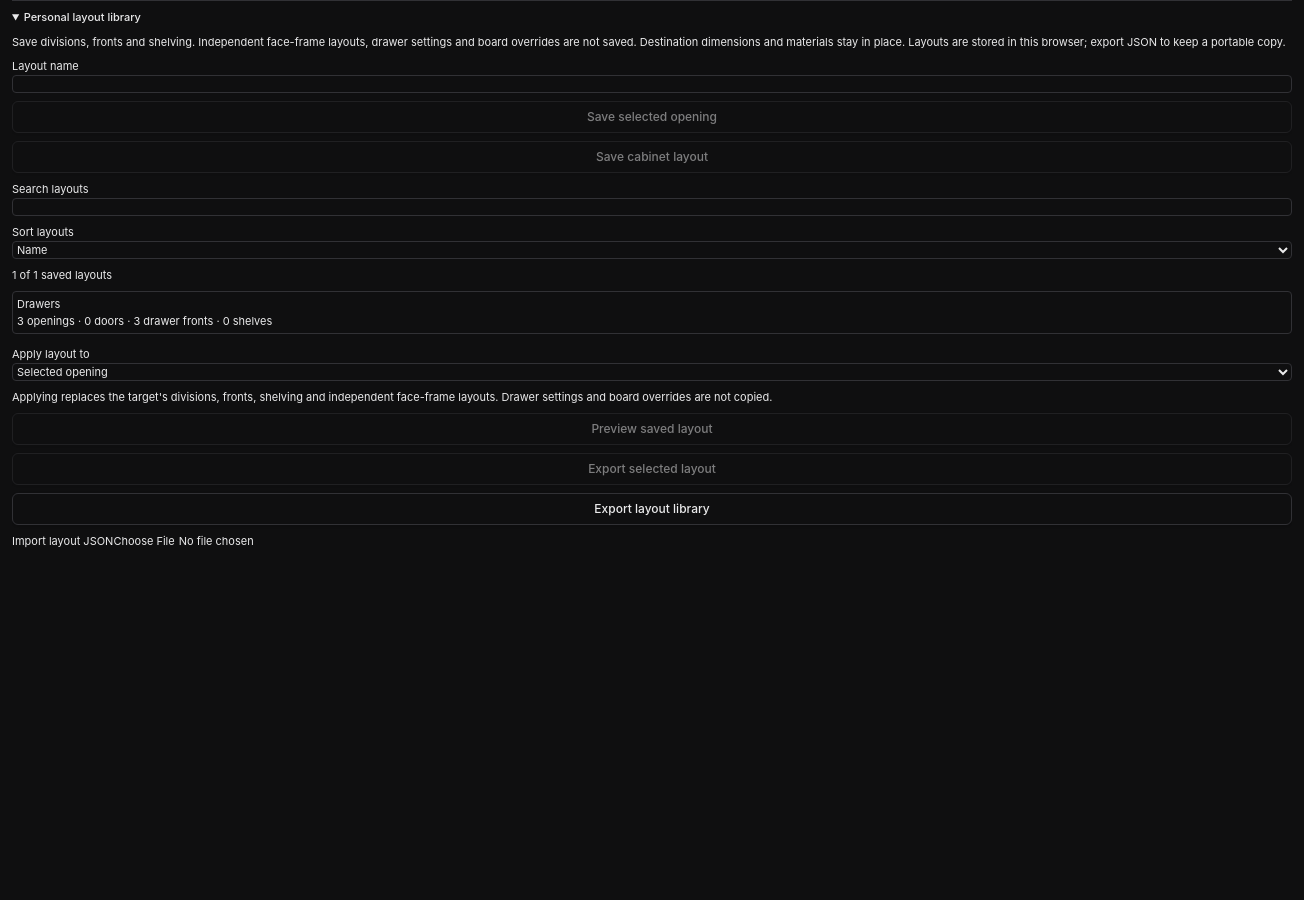
Test: blocks layouts with drawer boxes that cannot fit and leaves the current design unchanged
Click the button "Drawers 3 openings · 0 doors · 3 drawer fronts · 0 shelves".
click(39, 304)  # box [12,291,1292,334]
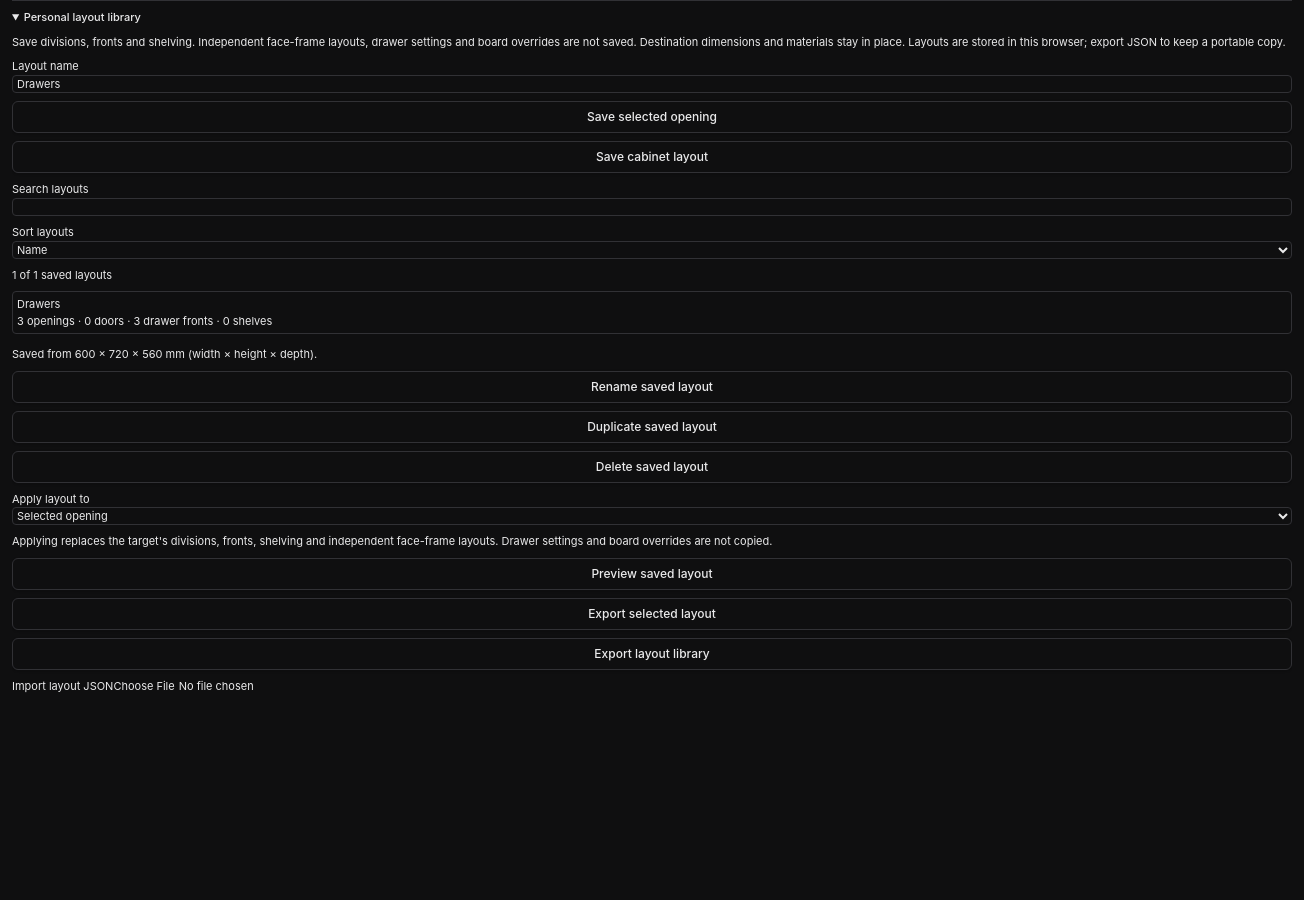
Click the button "Preview saved layout".
click(652, 574)  # box [12,558,1292,590]
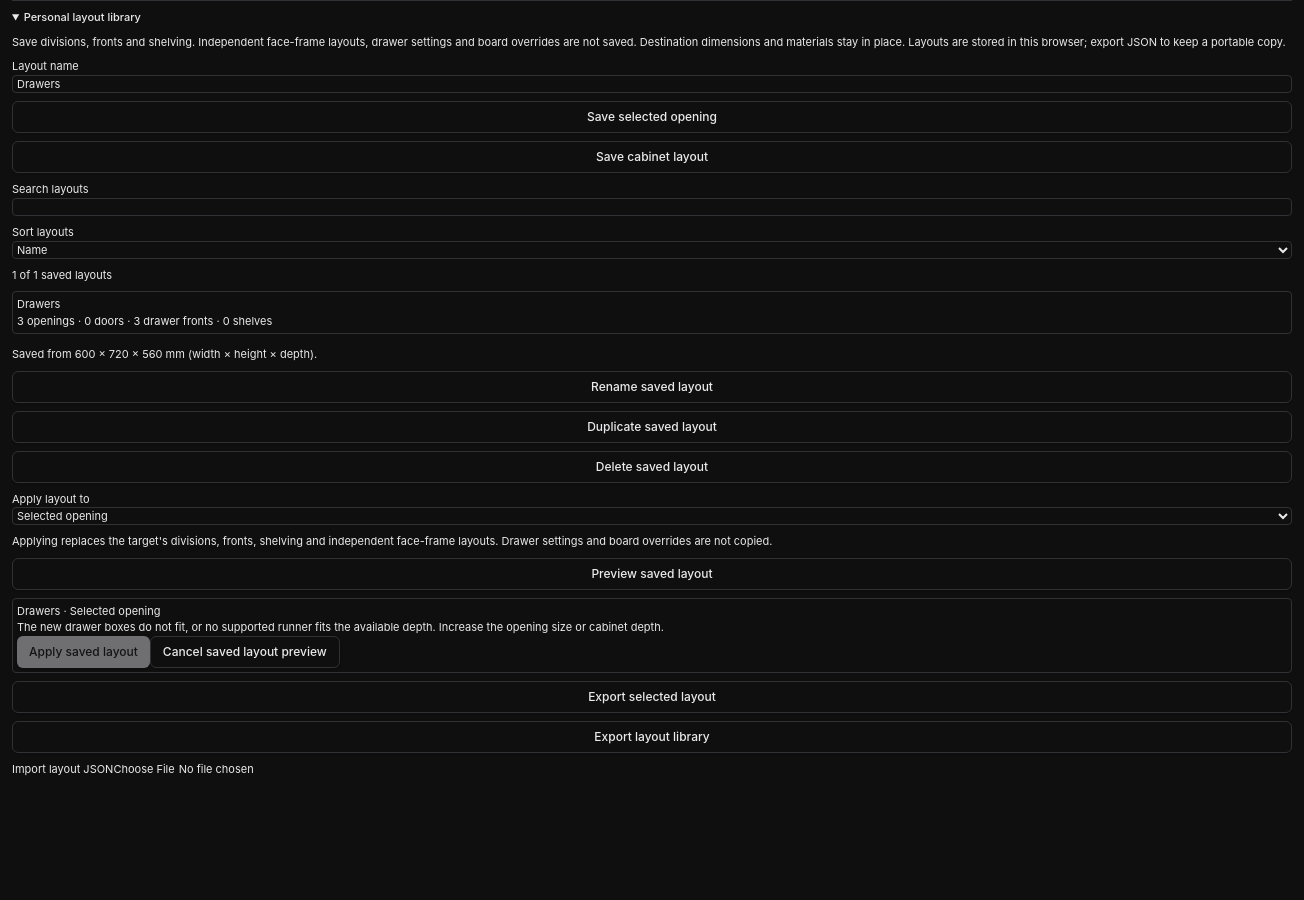
Check: the message shows "drawer boxes do not fit", box [17,620,664,634]
Check: the button "Apply saved layout" is disabled, box [17,636,150,668]
